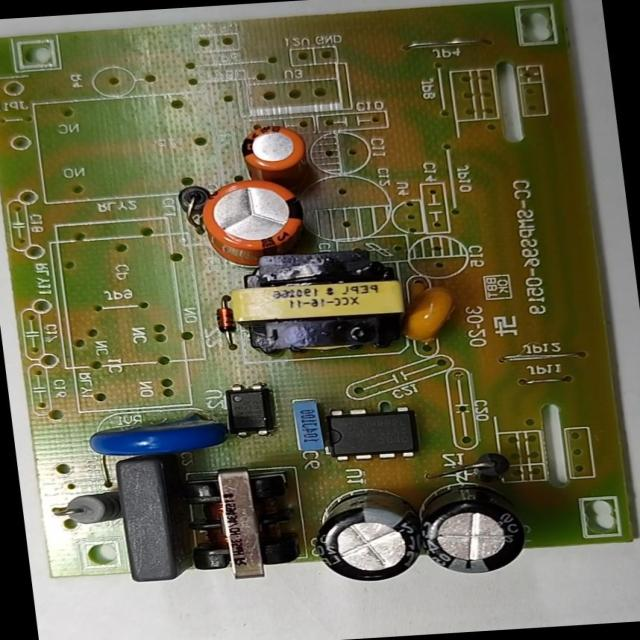Cap1: (173, 165, 319, 269)
Cap2: (233, 111, 320, 178)
Cap3: (304, 494, 427, 593)
Cap4: (416, 463, 546, 590)
MOSFET: (310, 394, 430, 470)
Mov: (84, 406, 243, 465)
Resistor: (45, 474, 124, 546)
Transformer: (211, 231, 430, 373), (166, 445, 335, 596)
